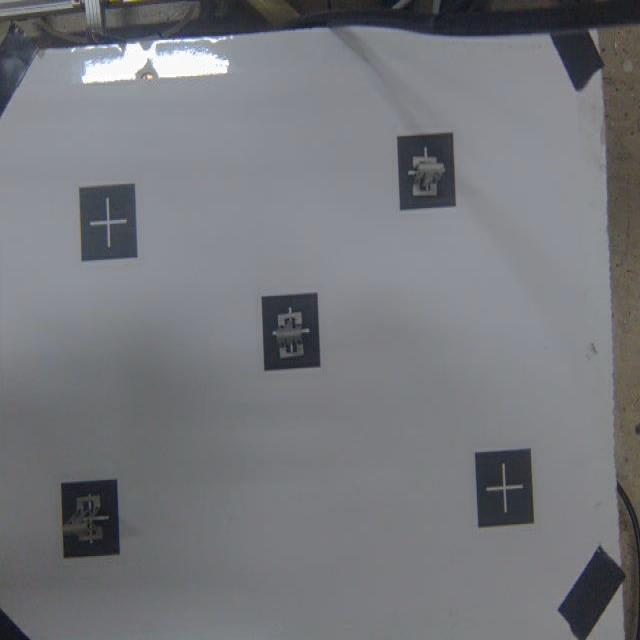pick2: (396, 134, 455, 214)
pick3: (262, 295, 320, 367)
pick4: (61, 479, 122, 558)
